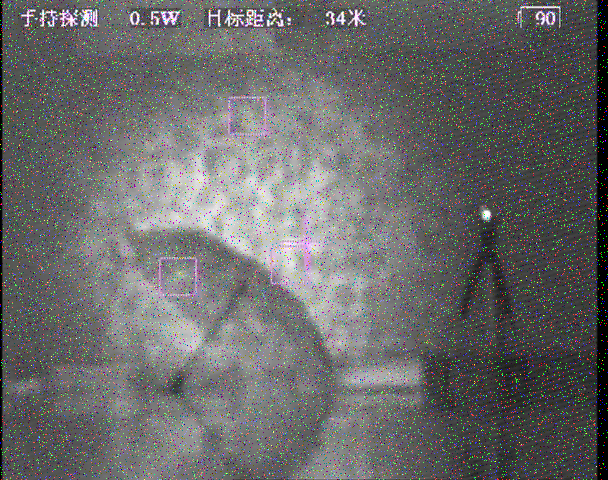my: (480, 208, 493, 220)
